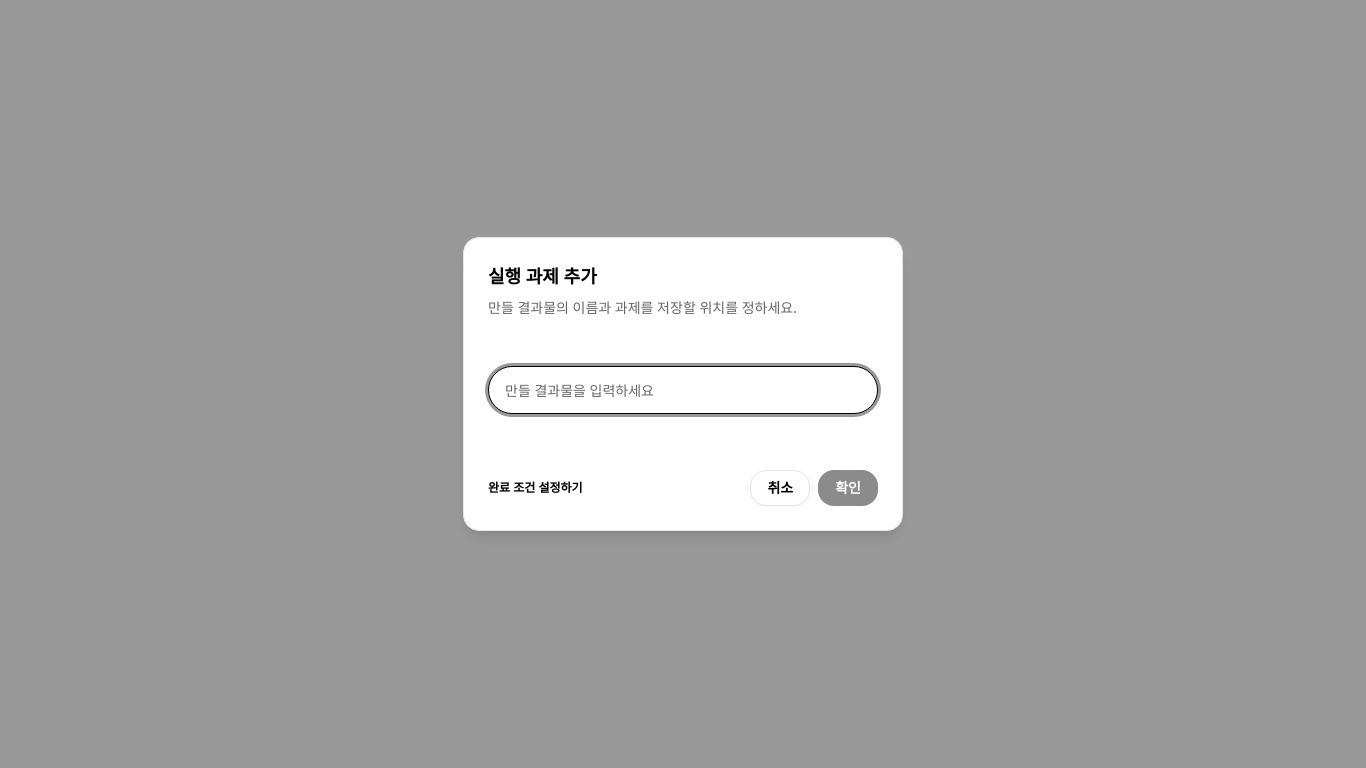
Test: AddRoadmapModal › opens SelectLocationModal when completion settings are clicked
Expected: the text "위치선택" is not shown
Click the button "완료 조건 설정하기": (535, 488) x1=488 y1=470 x2=583 y2=506
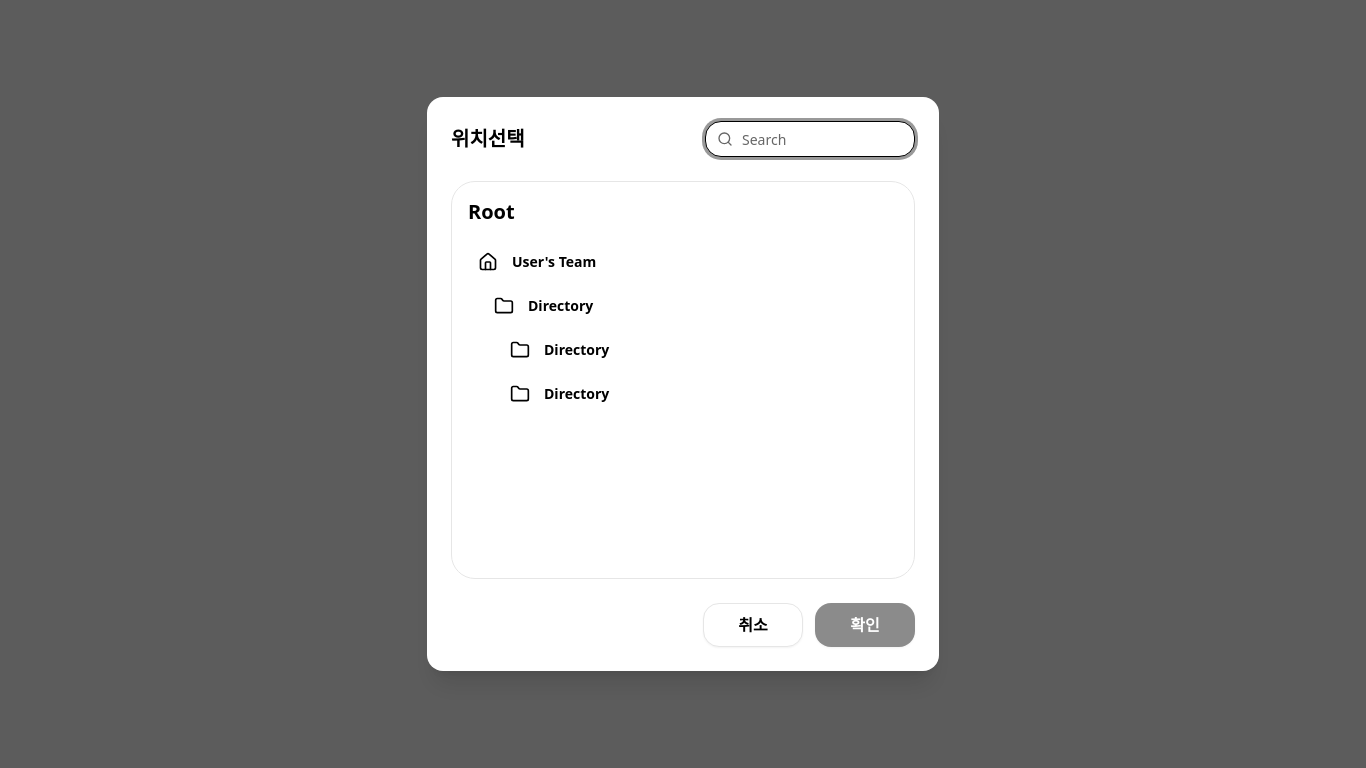
Now the heading "위치선택" is shown, box x1=451 y1=125 x2=525 y2=153
